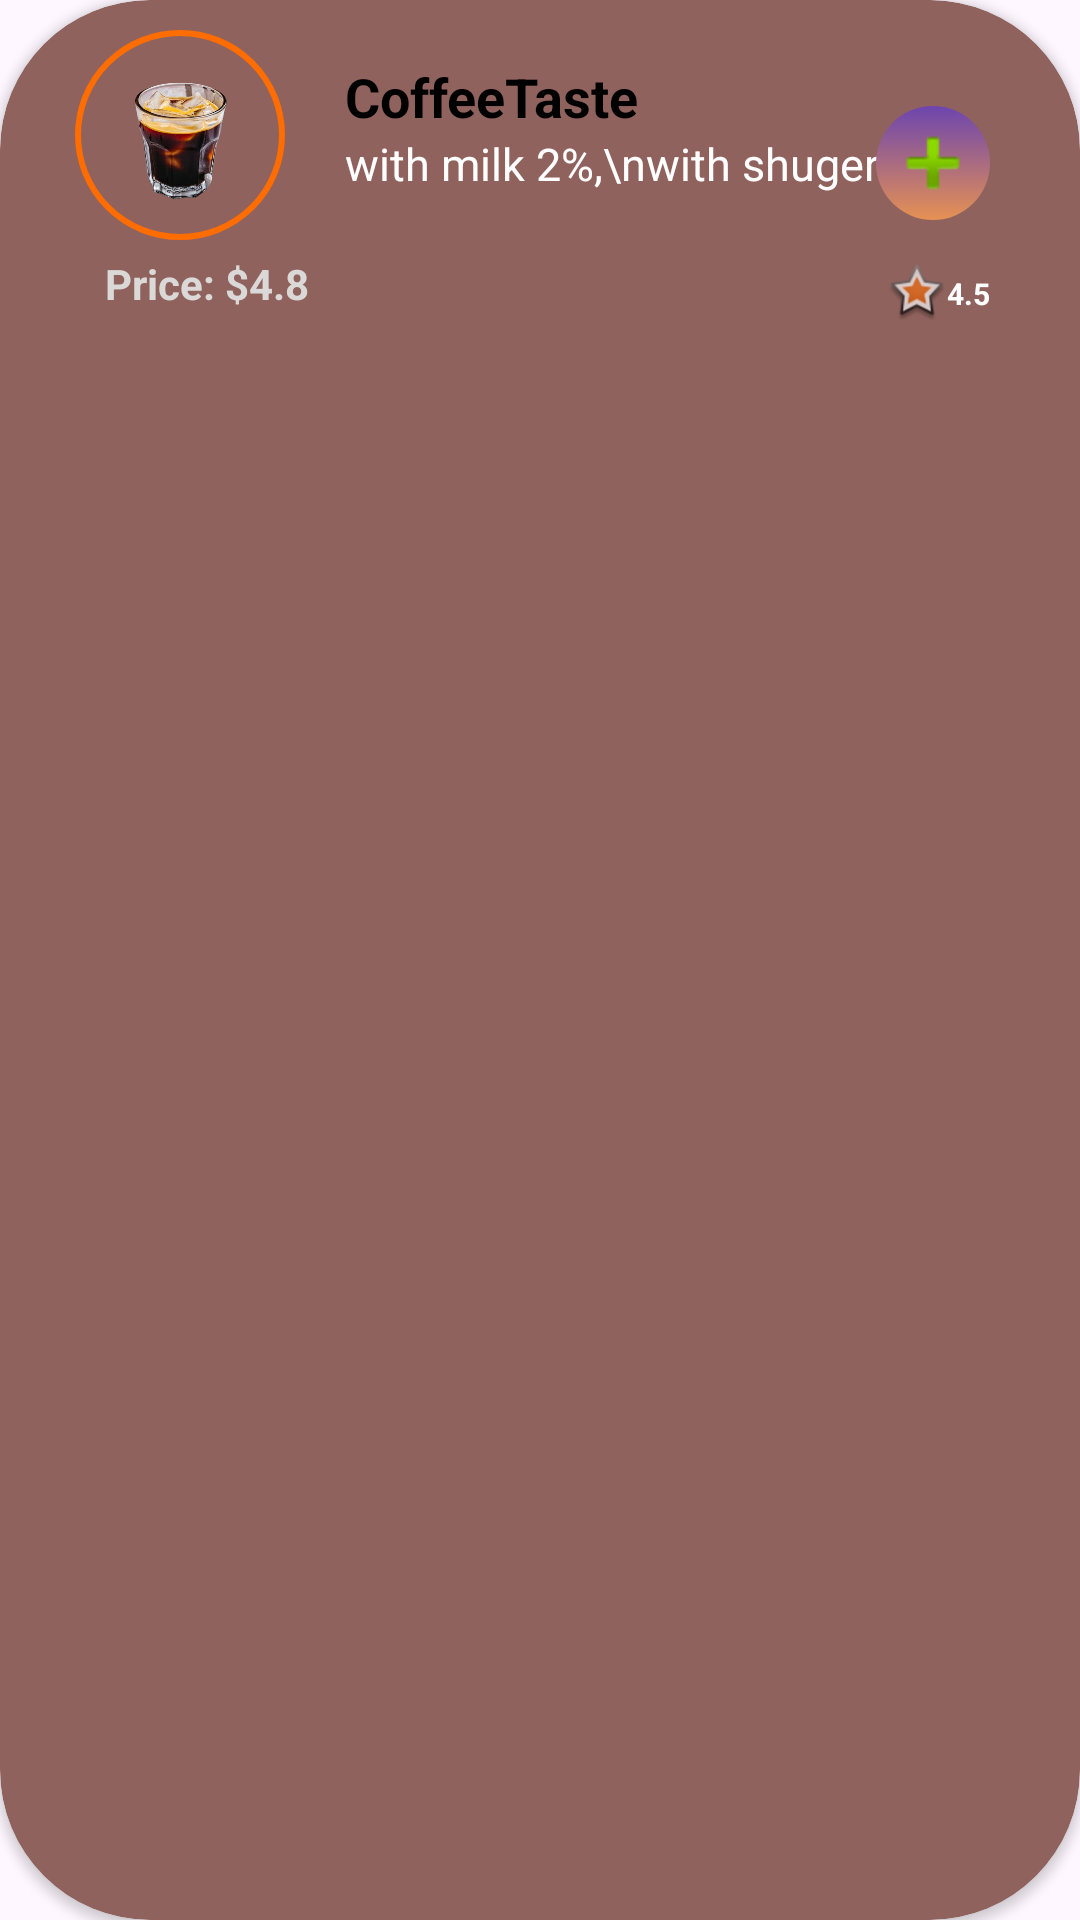

Screen size 1080*1920. Icon name, then its center in pixels as point (x, y):
add: point (933, 163)
americano: point (180, 135)
star on: point (917, 291)
